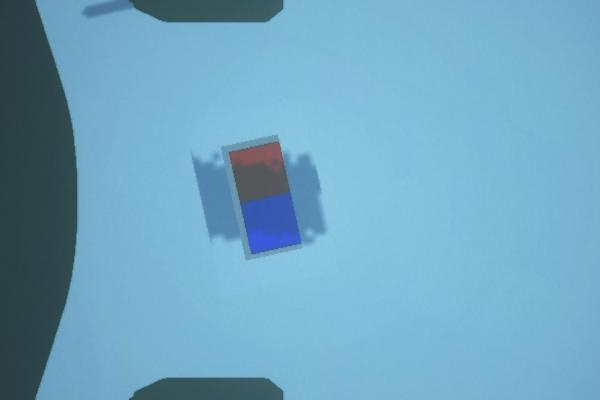bin: (190, 116, 336, 282)
bin_bleue: (240, 192, 302, 254)
bin_rouge: (228, 141, 290, 201)
